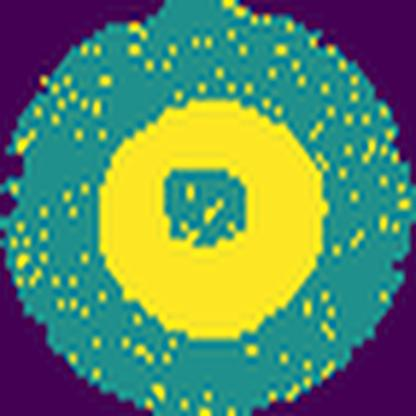Donut: (89, 90, 335, 348)
